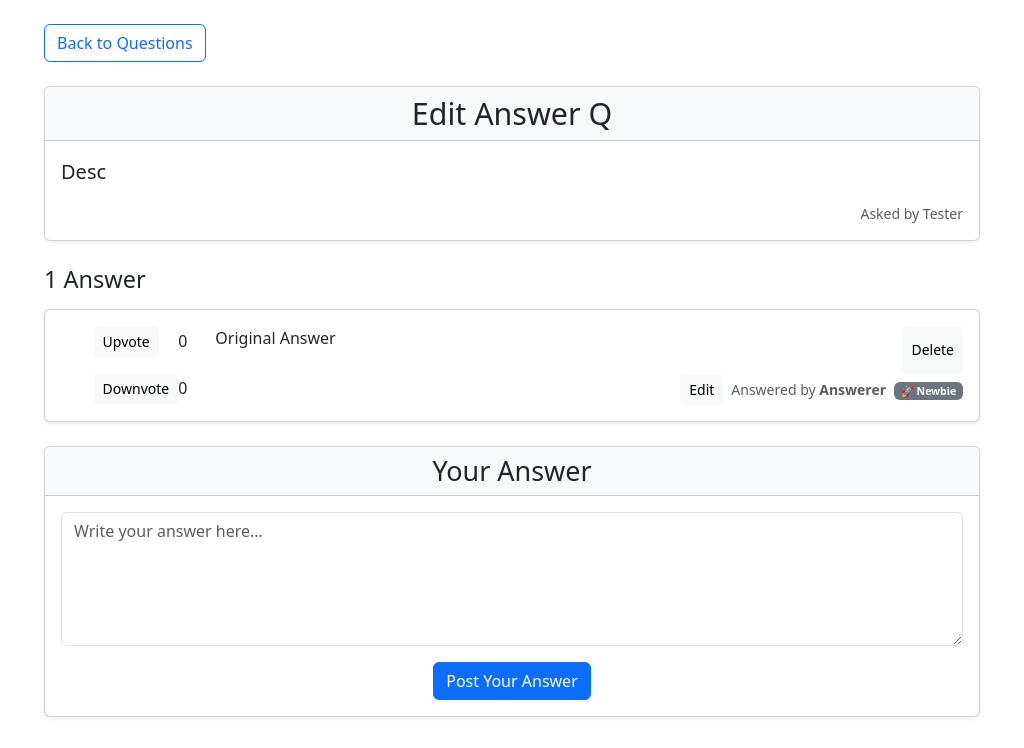
Test case: Answer Component › allows editing and updating an answer
Expected: the text with test id "answer-text-1" reads "Original Answer", [215,327,336,349]
Click the button "Edit": (702, 389) [680,374,723,405]
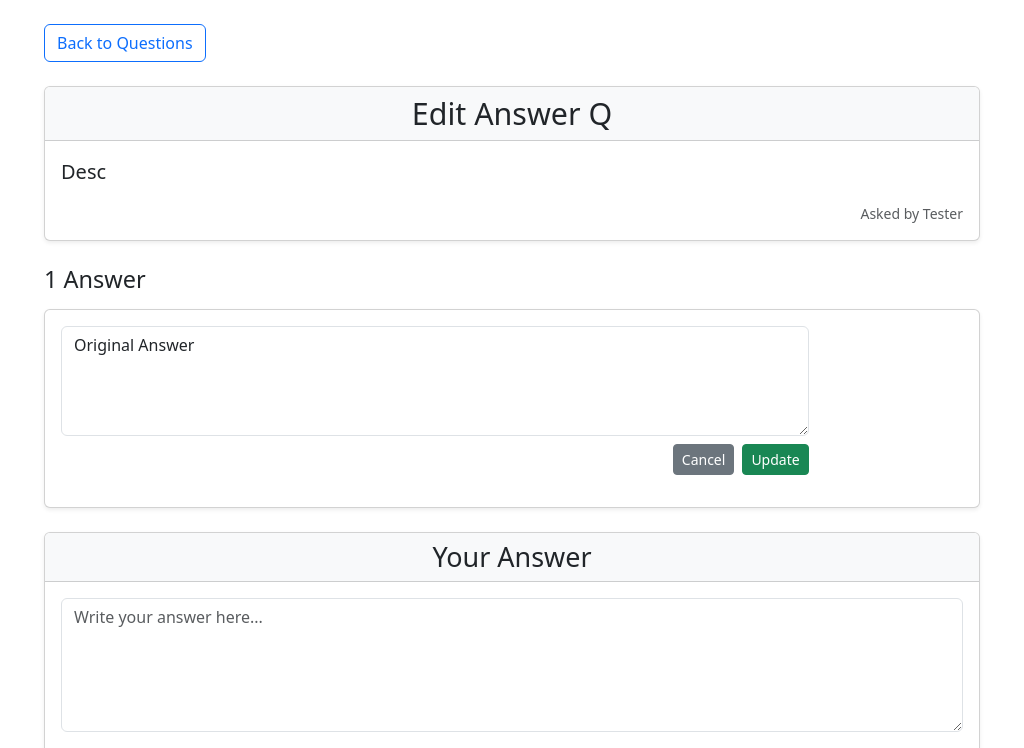
Expected: the element with test id "edit-section-1" is shown, [61,326,809,475]
Replace the text in the 1st text box with "Updated Answer": (435, 381) [61,326,809,436]
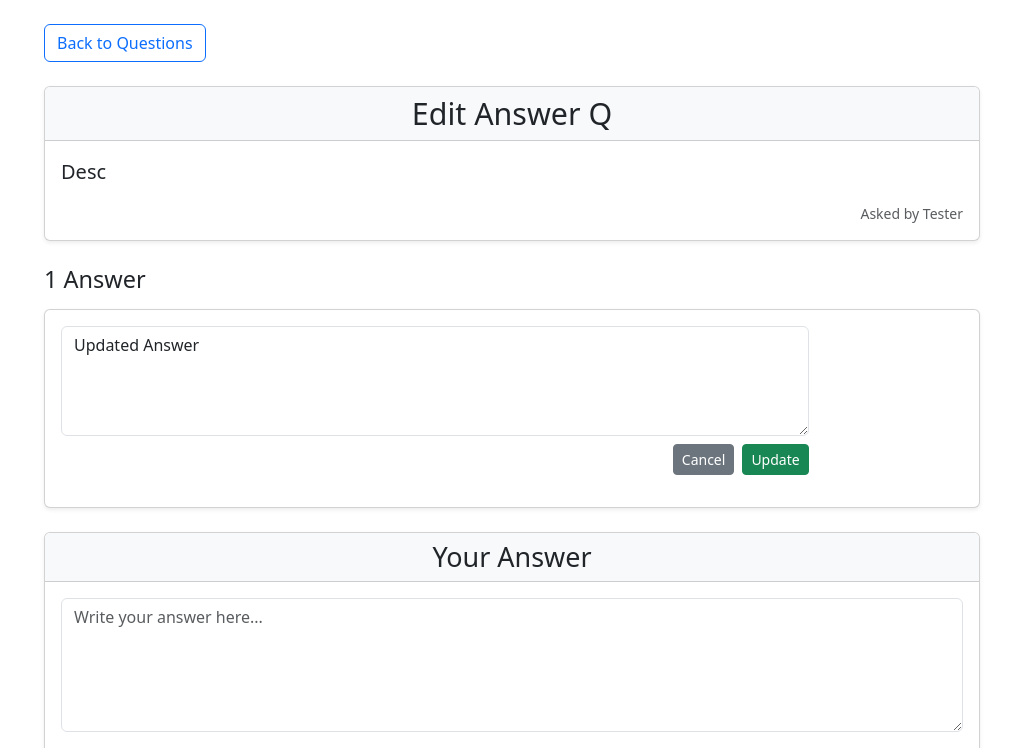
Click the button "Update": (776, 459) [742,444,809,475]
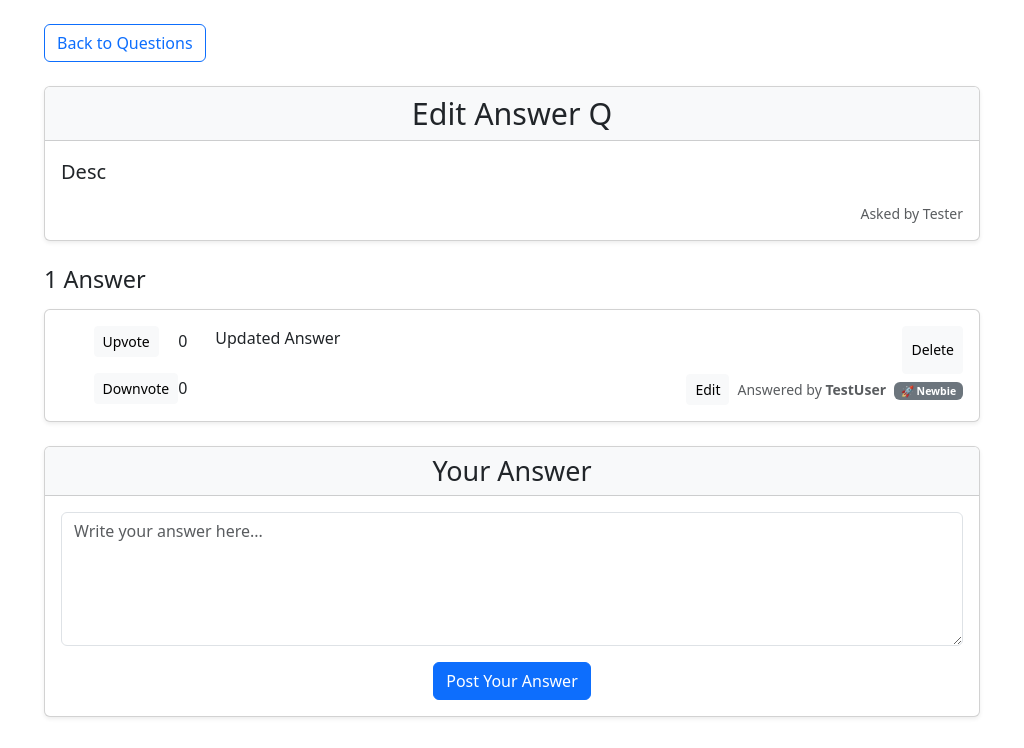
Expected: the text with test id "answer-text-1" reads "Updated Answer", [215,327,340,349]
